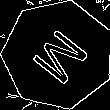M_SE: (23, 21, 93, 89)
